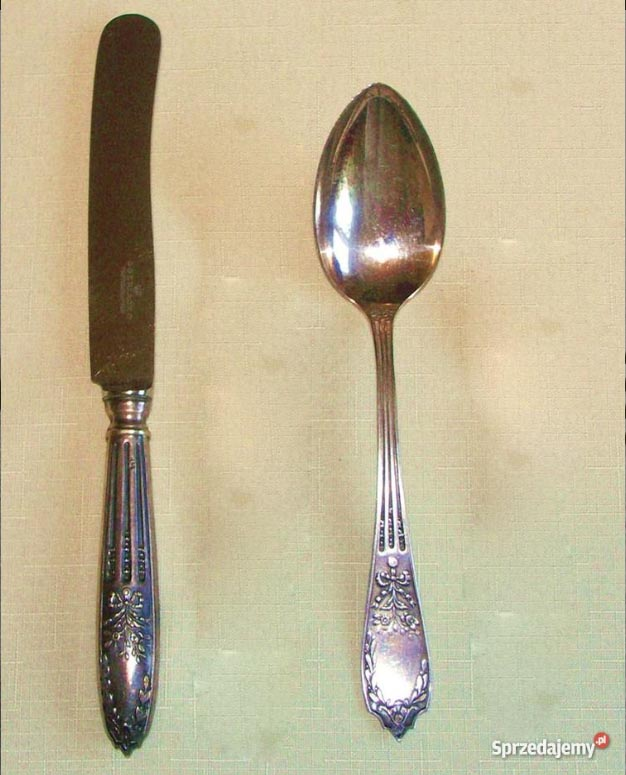Lyzka: (312, 78, 450, 308)
Noz: (85, 14, 172, 394)
